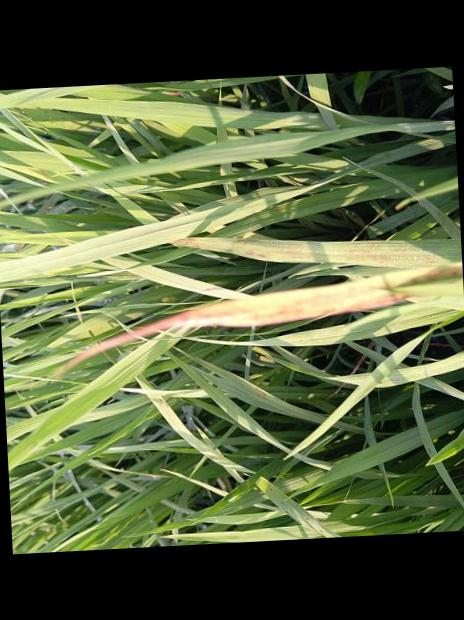Leaf Blight: (52, 266, 463, 376)
